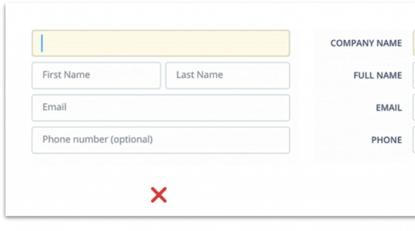field: (31, 28, 291, 57), (30, 94, 290, 123), (30, 126, 293, 153), (164, 60, 291, 91), (31, 60, 162, 90)
